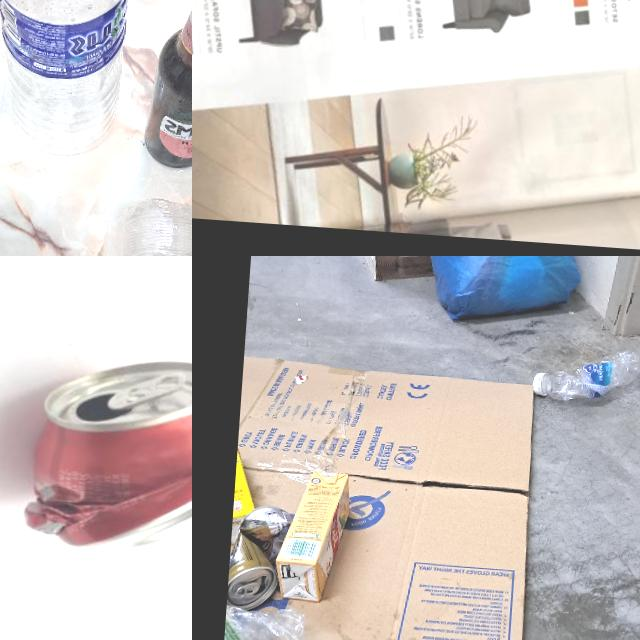aba de lata: (105, 366, 187, 415), (234, 581, 260, 600)
caixinha: (274, 466, 352, 603)
garrafa de vidro: (141, 0, 192, 174)
garrafa plástica: (0, 0, 138, 156), (539, 341, 640, 406), (220, 602, 305, 640)
lata: (216, 354, 543, 640), (18, 347, 192, 559), (226, 503, 291, 612)
papel: (192, 0, 640, 254)
sacola plástica: (416, 256, 591, 328)
tampa plástica: (532, 371, 547, 395)
